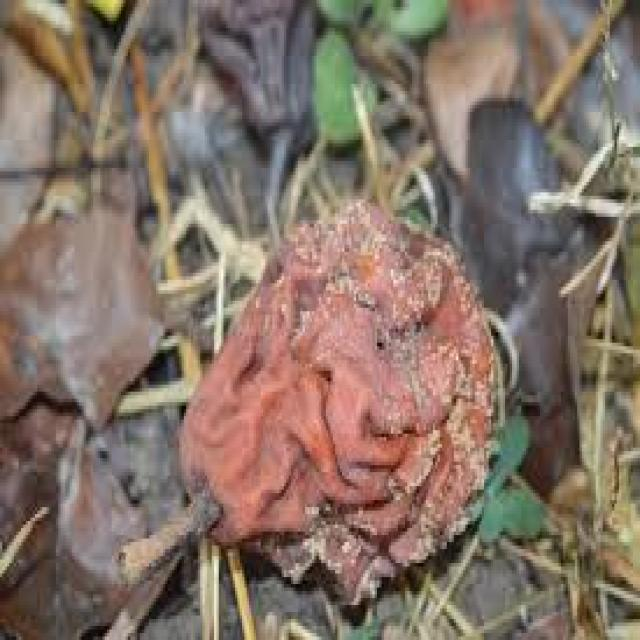biodegradable: (114, 196, 505, 608), (461, 95, 619, 493), (0, 207, 179, 424), (0, 395, 151, 636)
